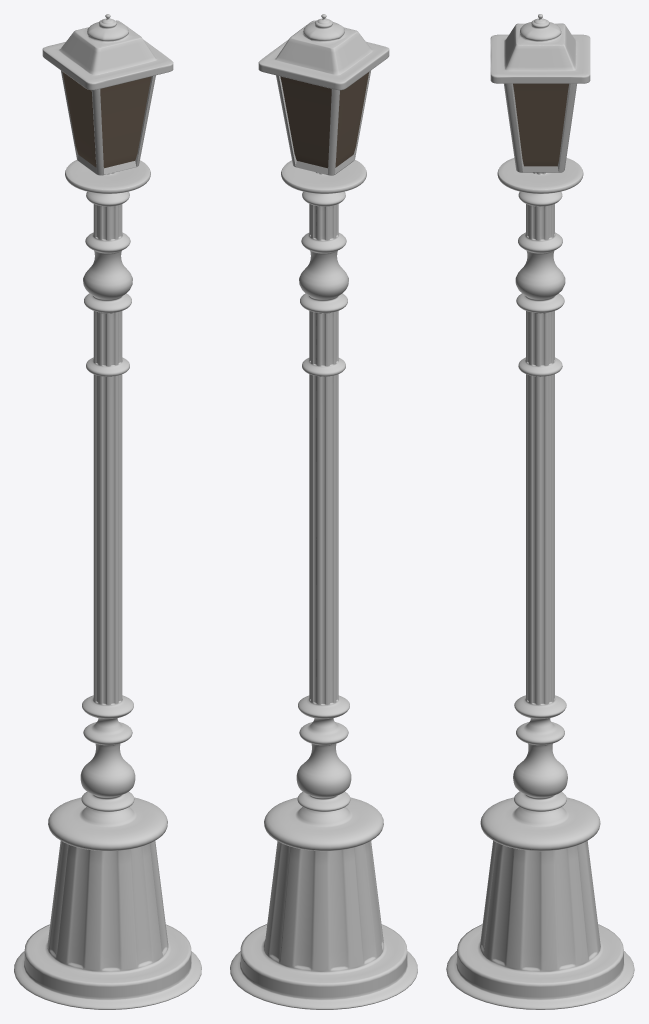
The picture shows the model from 3 angles, left to right: view 1: azimuth 30°, elevation 25°; view 2: azimuth 150°, elevation 25°; view 3: azimuth 270°, elevation 25°; orthographic projection.
Parts seen in each view (by area): view 1: Light_Lamppost3; view 2: Light_Lamppost3; view 3: Light_Lamppost3.
Boxes of the visible parts, x1,y1,x2,y2 form: Light_Lamppost3: (14, 14, 201, 1009); Light_Lamppost3: (230, 14, 417, 1009); Light_Lamppost3: (446, 14, 634, 1009).
Bounding box in the file's own units: 0.9388 × 5.27 × 0.9388.
